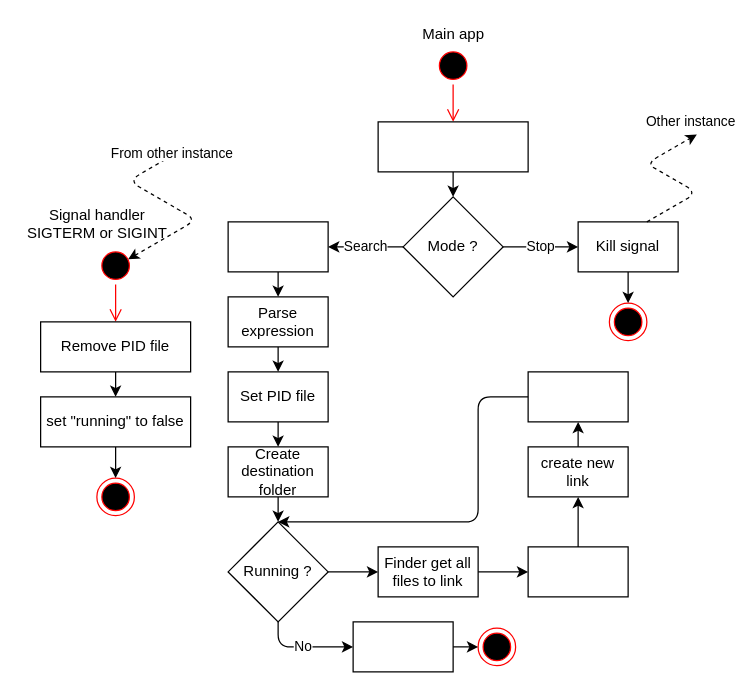
Image size: 756x695. Some labels were removed from this diagram. Here are the shapes that lost their labels. From the top down, the centre of each, then its label:
point 452,146: Parse argument
point 277,246: Fork
point 577,396: sleep
point 577,571: delete old ones
point 402,646: Delete destination folder
